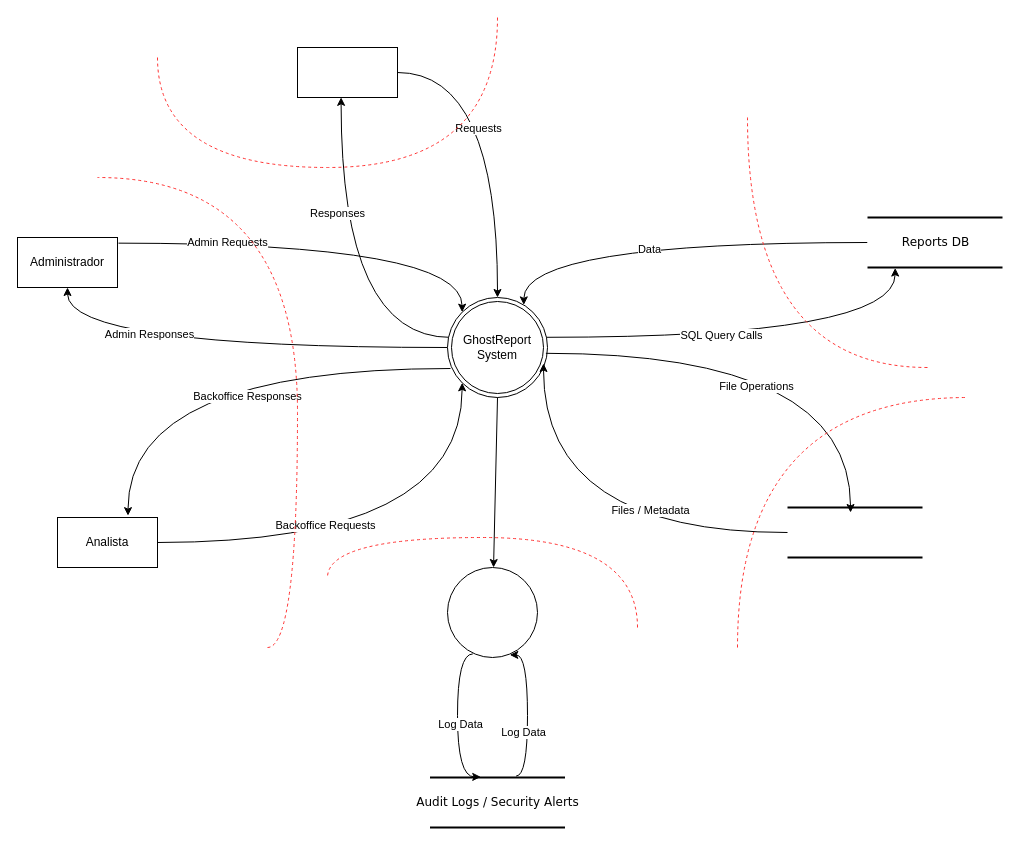
This 1021x846 diagram has some shape labels left out. Each missing label, with the centre of its shape:
"Denunciante Anónimo" goes at [347,72].
"Evidence File Storage" goes at [854,532].
"Syslog System" goes at [492,612].
